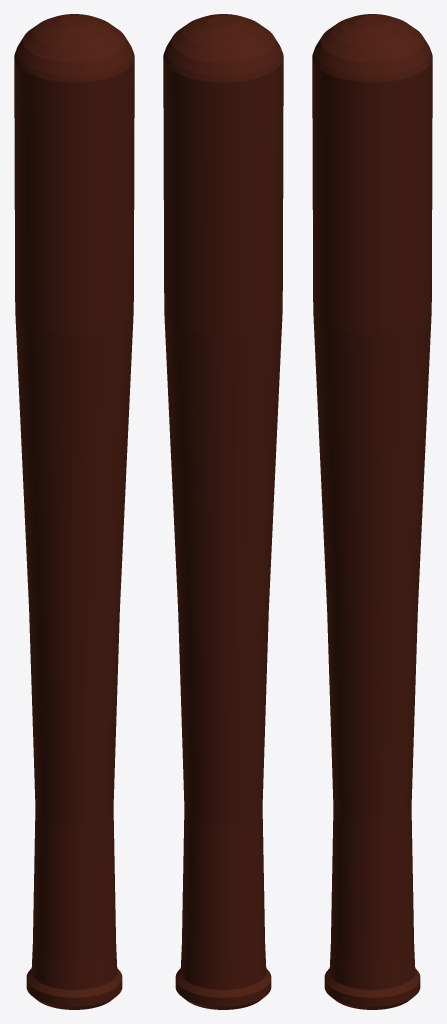
3 views of the same model, side by side, from view 1: azimuth 90°, elevation 25°; view 2: azimuth 210°, elevation 25°; view 3: azimuth 270°, elevation 25° (orthographic).
Visible parts, largest first — view 1: wood; view 2: wood; view 3: wood.
Boxes of the visible parts, x1=… form: wood: x1=14, y1=14, x2=134, y2=1009; wood: x1=163, y1=14, x2=283, y2=1009; wood: x1=312, y1=14, x2=432, y2=1009.
Size of the model in its own units: 0.0955 by 0.85 by 0.0955.
